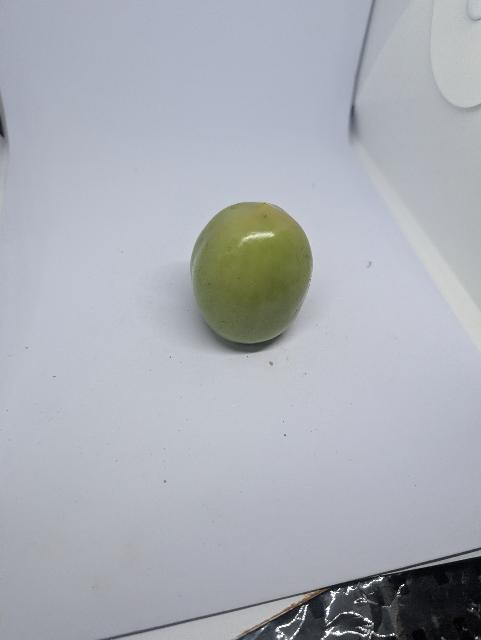green: (170, 174, 332, 372)
